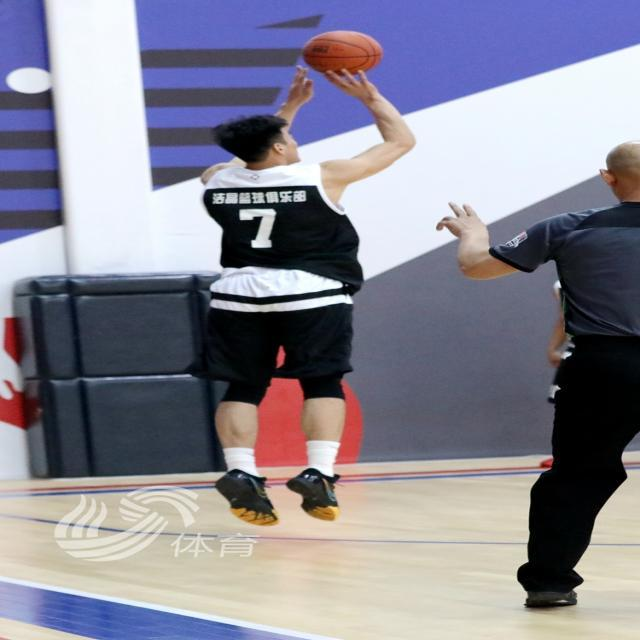rim: (304, 29, 382, 73)
